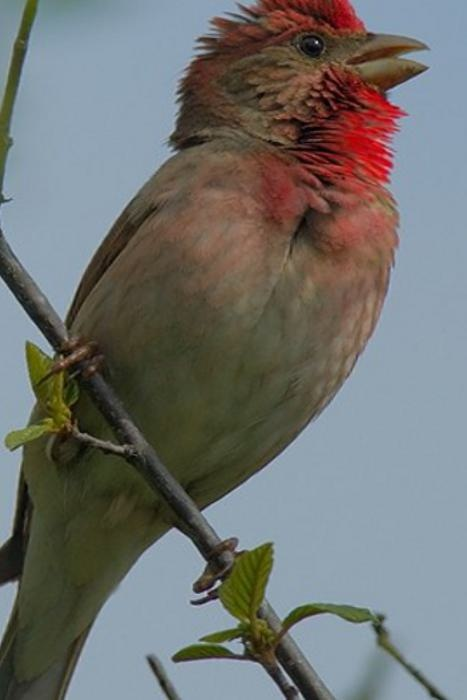rosefinch: (13, 12, 432, 587)
